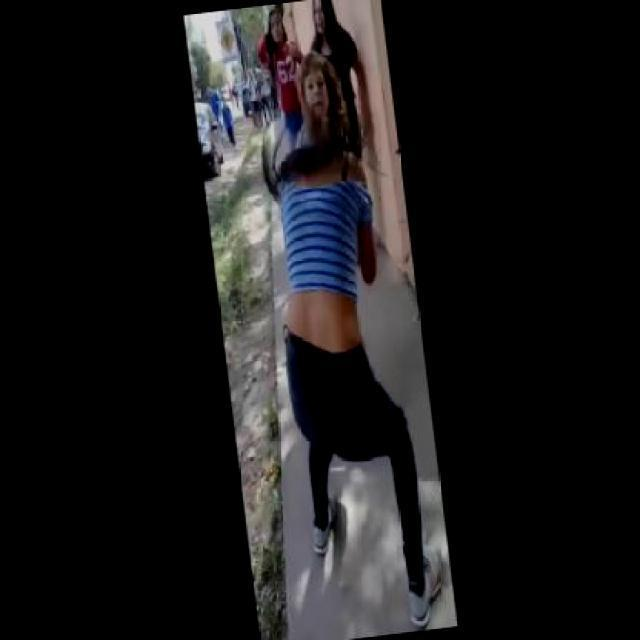fight: (251, 49, 407, 489)
